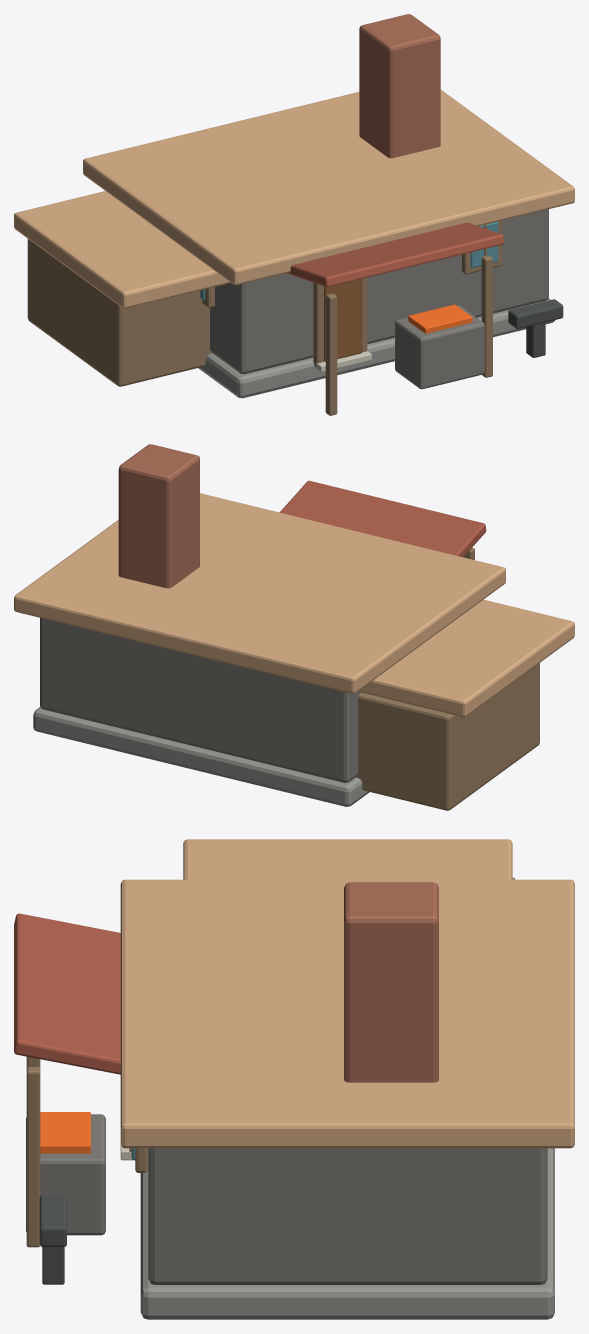
The model's file is arid-smithy-1.glb.
3 renders of one model, top to bottom at view 1: azimuth 30°, elevation 25°; view 2: azimuth 150°, elevation 25°; view 3: azimuth 270°, elevation 25°, orthographic. The views are drawn at different scales.
Visible parts, largest first — view 1: Adobe cream, Soot stone, Palm beams, Chimney brick, Clay tiles, Foundation stone, Door oak, Forged iron, Forge ember, Blue glass; view 2: Adobe cream, Soot stone, Palm beams, Chimney brick, Foundation stone, Clay tiles; view 3: Adobe cream, Soot stone, Chimney brick, Foundation stone, Clay tiles, Palm beams, Forged iron, Forge ember.
Part boxes in pixels (<box>): Adobe cream: <box>14,89,574,308</box>; Soot stone: <box>210,209,548,389</box>; Palm beams: <box>27,220,502,415</box>; Chimney brick: <box>359,14,440,158</box>; Clay tiles: <box>287,222,504,287</box>; Foundation stone: <box>198,298,555,398</box>; Door oak: <box>324,279,362,361</box>; Forged iron: <box>508,299,563,357</box>; Forge ember: <box>408,304,472,333</box>; Blue glass: <box>200,221,498,300</box>; Adobe cream: <box>14,493,574,717</box>; Soot stone: <box>40,618,361,782</box>; Palm beams: <box>356,548,539,810</box>; Chimney brick: <box>118,444,199,588</box>; Foundation stone: <box>33,707,369,806</box>; Clay tiles: <box>279,480,486,557</box>; Adobe cream: <box>120,839,574,1148</box>; Soot stone: <box>26,1114,547,1284</box>; Chimney brick: <box>344,882,438,1082</box>; Foundation stone: <box>140,1148,554,1319</box>; Clay tiles: <box>14,913,120,1074</box>; Palm beams: <box>26,877,515,1247</box>; Forged iron: <box>39,1195,66,1284</box>; Forge ember: <box>40,1112,90,1153</box>.
Bounding box in the file's own units: 5.93 × 3.28 × 4.5.
